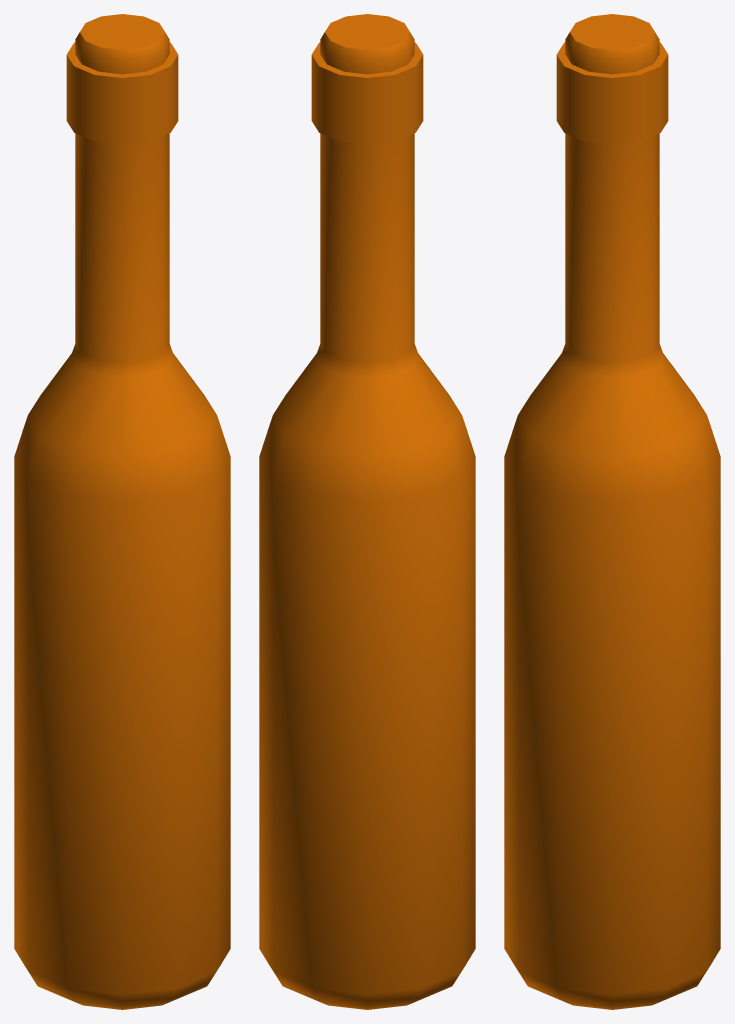
File: SM_Bottle2.fbx
3 renders of one model, left to right at view 1: azimuth 30°, elevation 25°; view 2: azimuth 150°, elevation 25°; view 3: azimuth 270°, elevation 25°, orthographic.
Parts seen in each view (by area): view 1: SM_Bottle2; view 2: SM_Bottle2; view 3: SM_Bottle2.
Boxes of the visible parts, x1,y1,x2,y2 form: SM_Bottle2: (14, 14, 230, 1009); SM_Bottle2: (259, 14, 475, 1009); SM_Bottle2: (504, 14, 720, 1009).
Size of the model in its own units: 33.04 by 159 by 33.04.
